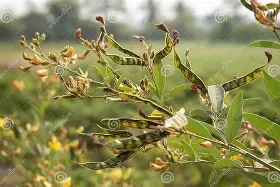crops: (0, 40, 276, 183), (0, 67, 47, 119)
